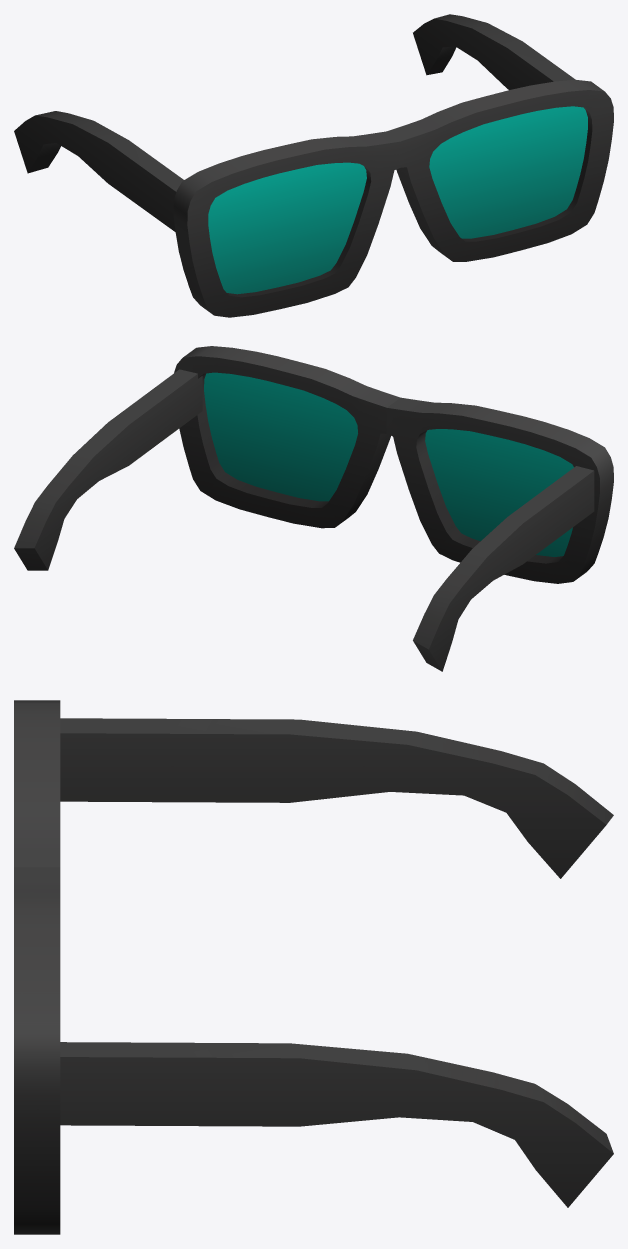
File: Head_Prop_Sunglass_01.fbx
3 views of the same model, one above another, from view 1: azimuth 30°, elevation 25°; view 2: azimuth 150°, elevation 25°; view 3: azimuth 270°, elevation 25° (orthographic). The views are drawn at different scales.
Visible parts, largest first — view 1: Head_Prop_Sunglass_01; view 2: Head_Prop_Sunglass_01; view 3: Head_Prop_Sunglass_01.
Boxes of the visible parts, left/top/right/bottom form: Head_Prop_Sunglass_01: left=14, top=14, right=613, bottom=317; Head_Prop_Sunglass_01: left=14, top=346, right=613, bottom=671; Head_Prop_Sunglass_01: left=14, top=700, right=613, bottom=1234.
Size of the model in its own units: 108 by 36.11 by 78.27.
